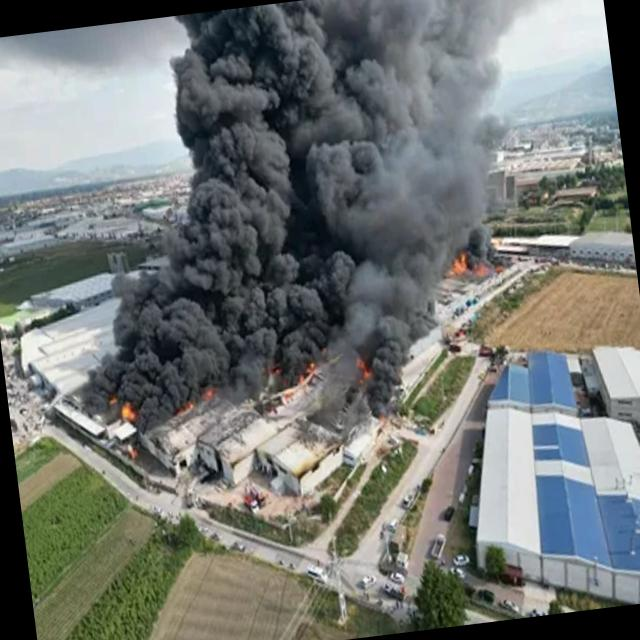Smoke: (43, 0, 548, 445)
